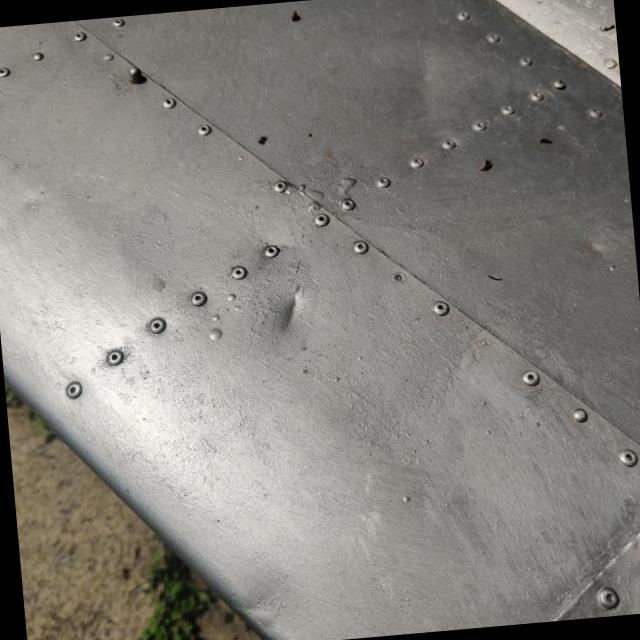Dent: (226, 248, 328, 370)
